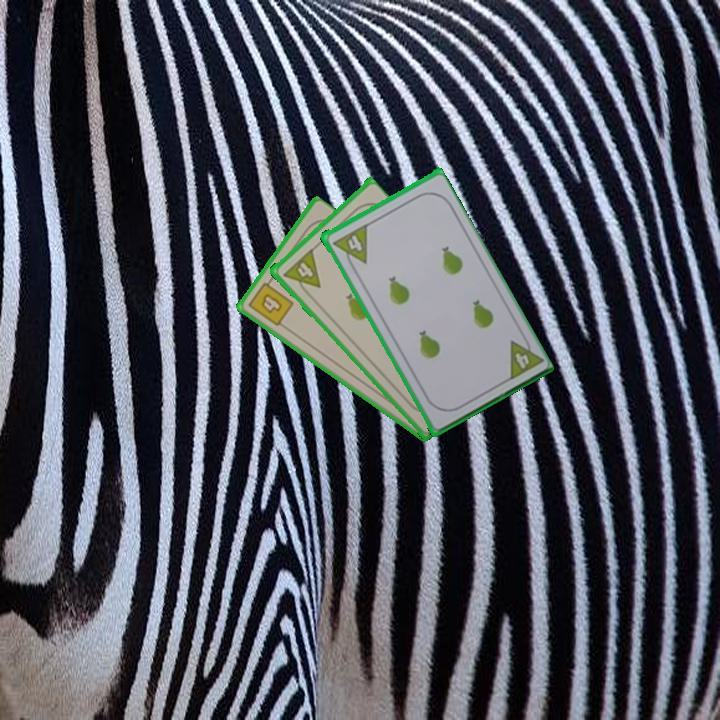4b: (245, 274, 297, 329)
4p: (279, 246, 323, 299), (341, 223, 370, 264), (510, 349, 532, 372)
